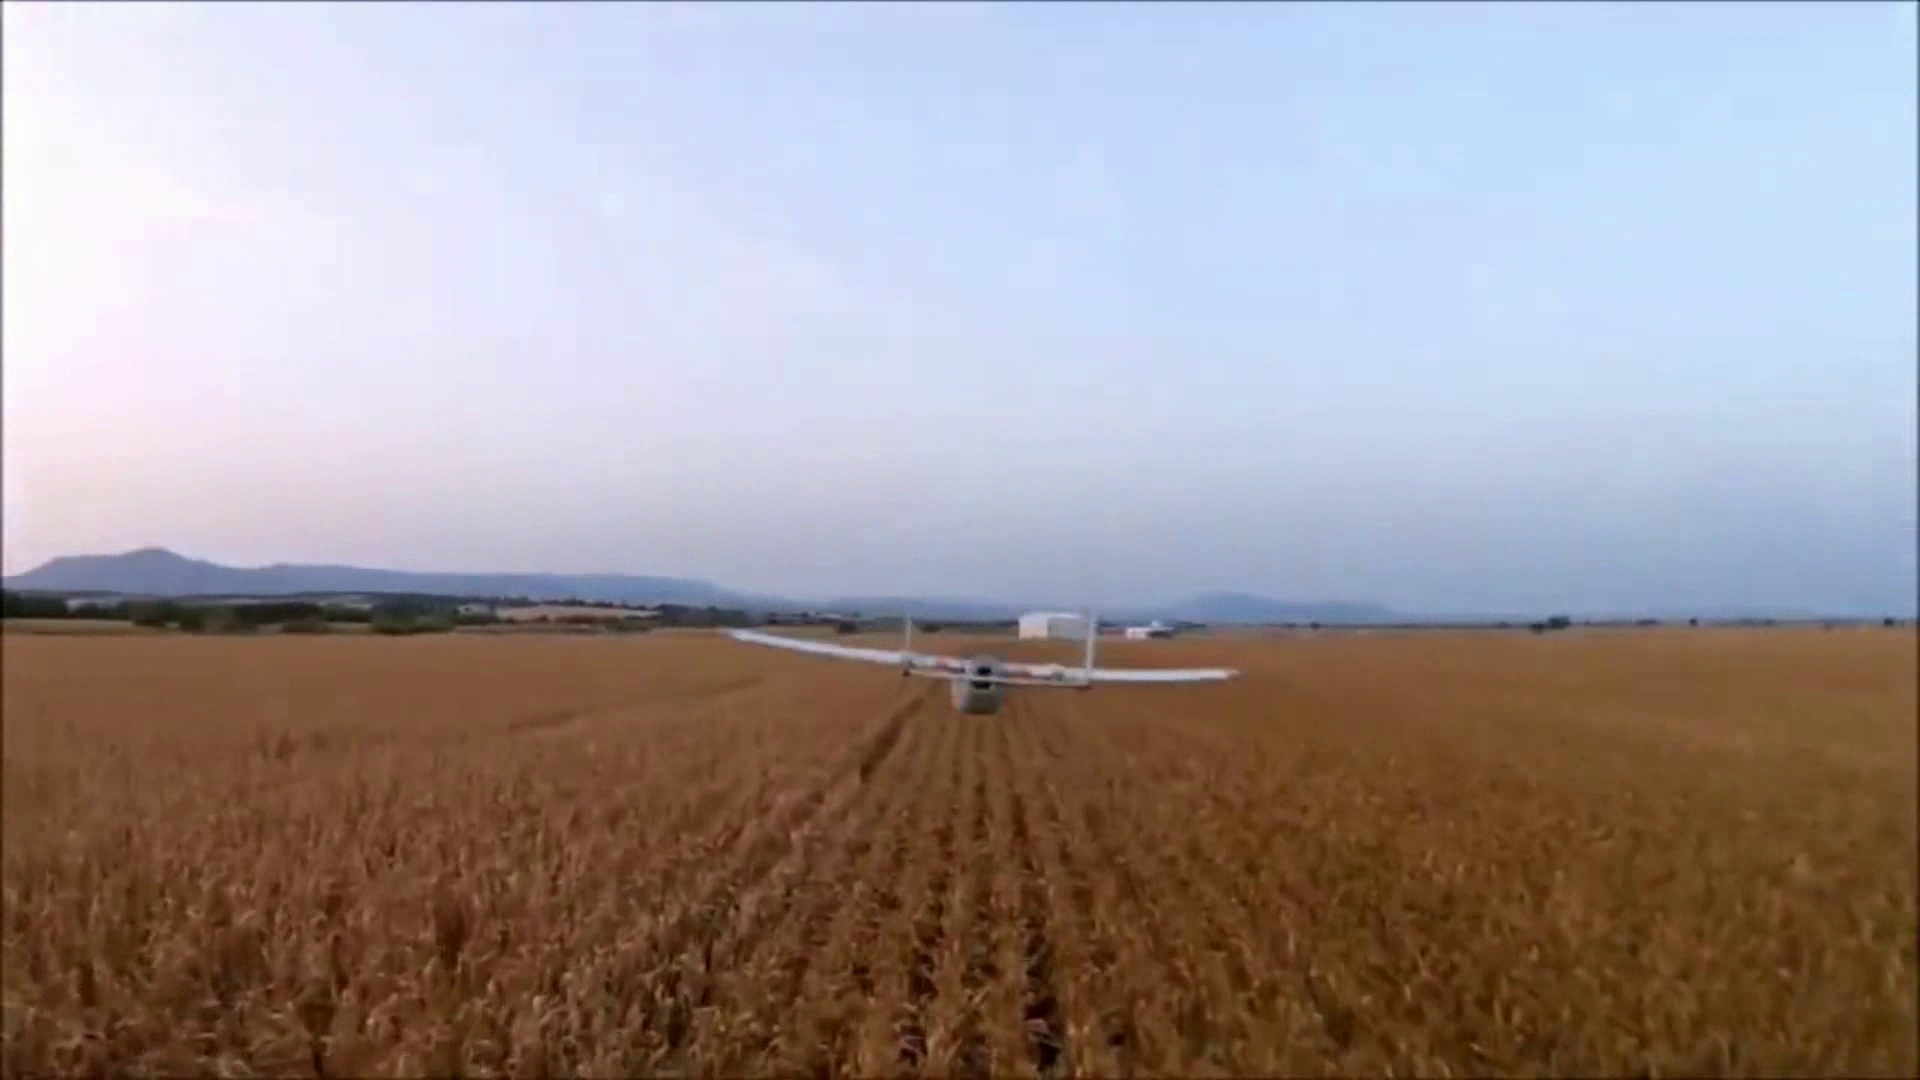airplane: (723, 622, 1244, 704)
